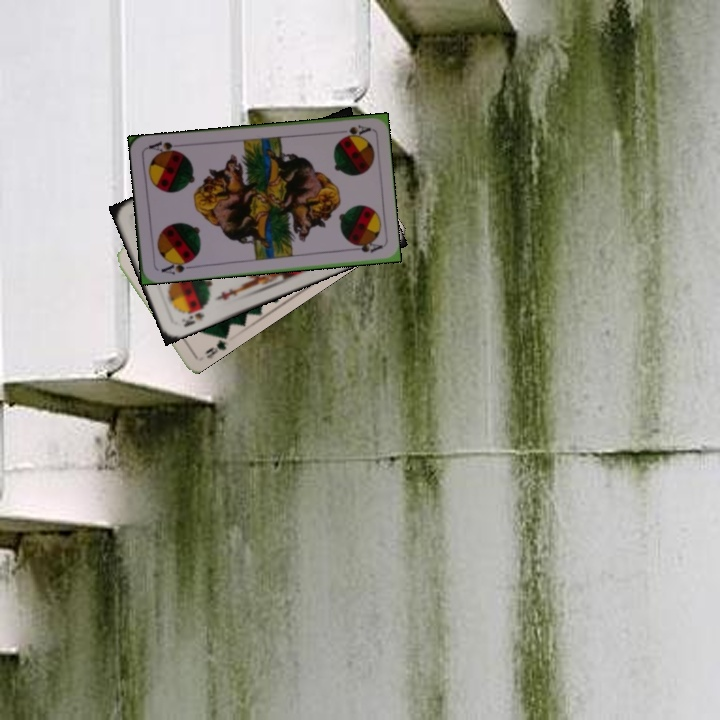G9: (201, 331, 230, 361)
SA: (157, 255, 196, 277), (338, 121, 373, 140)
SK: (180, 303, 207, 329)
